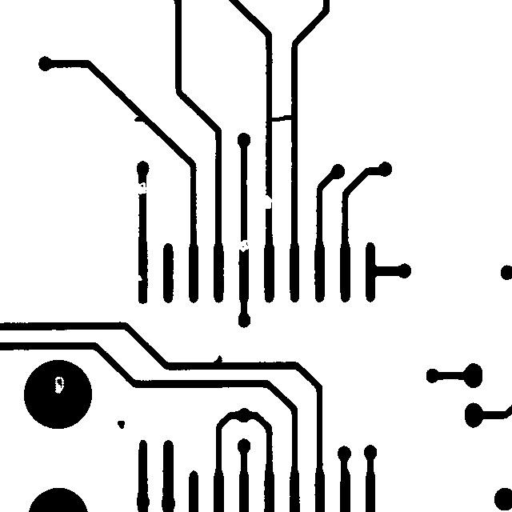copper: (110, 413, 132, 436)
mousebite: (126, 266, 150, 288)
open: (128, 174, 155, 202), (253, 187, 279, 216), (231, 232, 257, 259)
pin-hole: (47, 369, 71, 401)
short: (259, 107, 301, 129)
spur: (205, 347, 230, 374), (126, 108, 151, 129)
